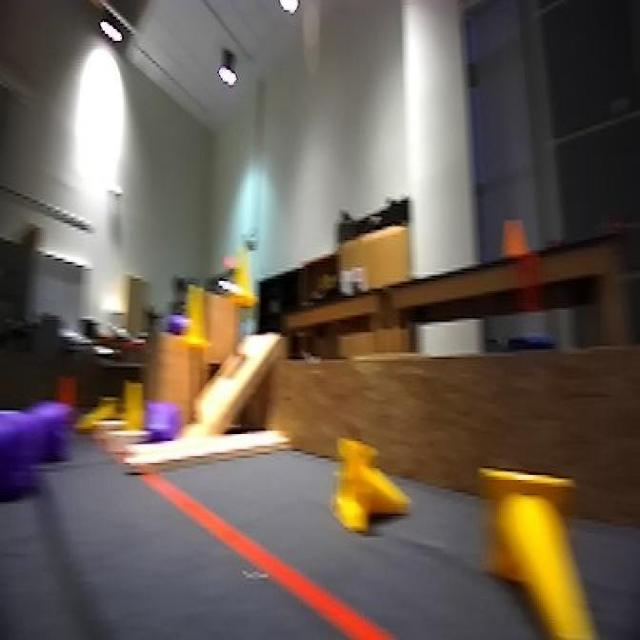frc_cone: (475, 466, 608, 640), (330, 434, 416, 545), (174, 272, 208, 358), (223, 242, 251, 310), (74, 397, 125, 434), (124, 380, 145, 439)
frc_cube: (0, 405, 38, 497), (28, 408, 72, 459), (134, 404, 172, 449), (157, 306, 180, 341)
